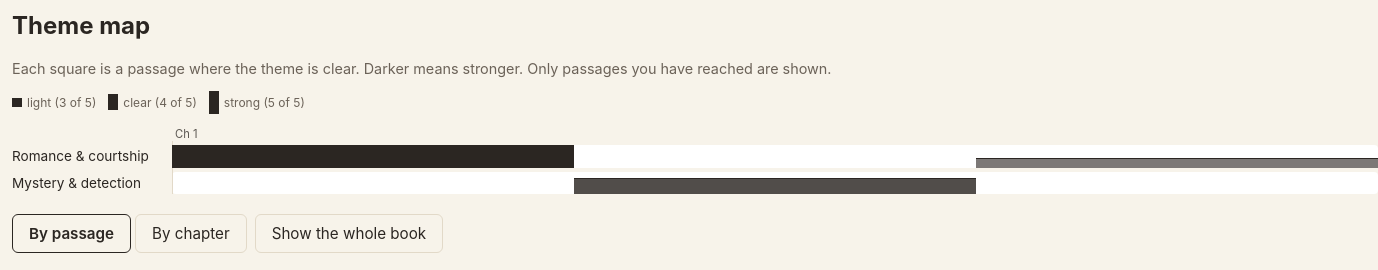
Scenario: by chapter › says what a square means, and which view is on
The image size is (1378, 270).
Click the button "By chapter".
click(191, 233)  # box [135, 214, 247, 253]
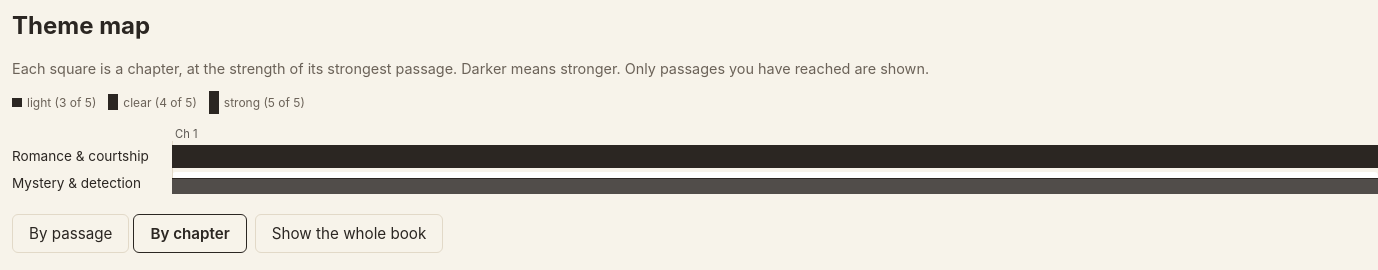
Expected: the text "Each square is a chapter" is shown, [12, 60, 457, 77]
